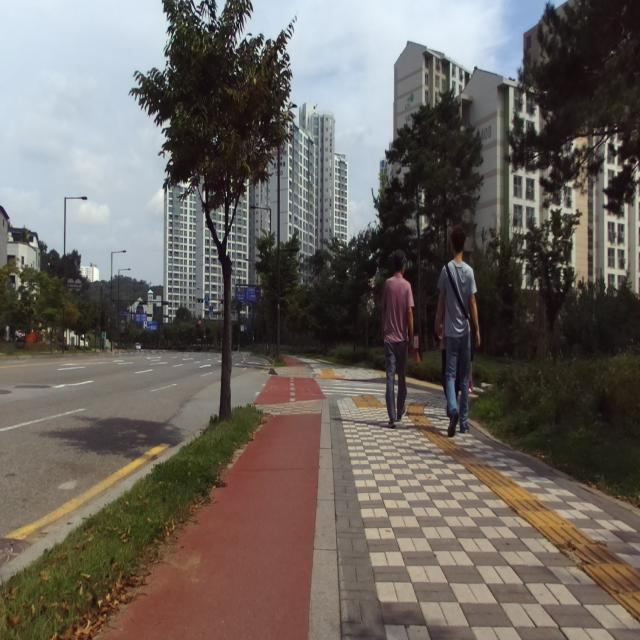횡단보도: (314, 378, 409, 395)
